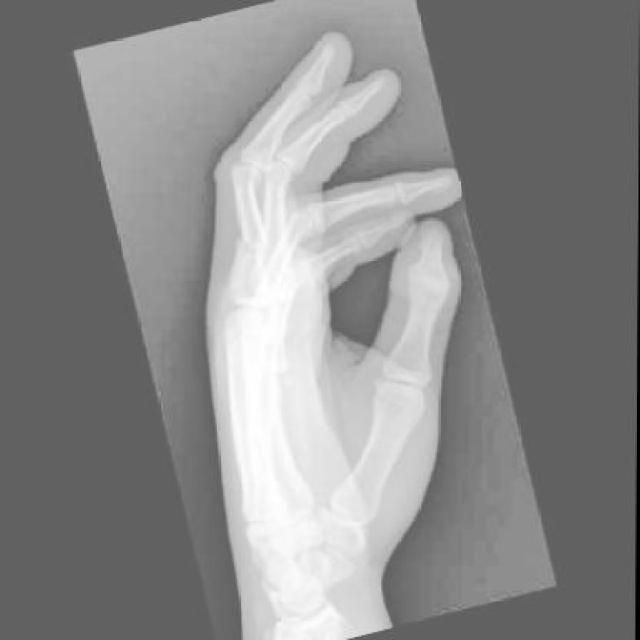Fracture: (255, 249, 299, 288), (231, 231, 273, 270)
